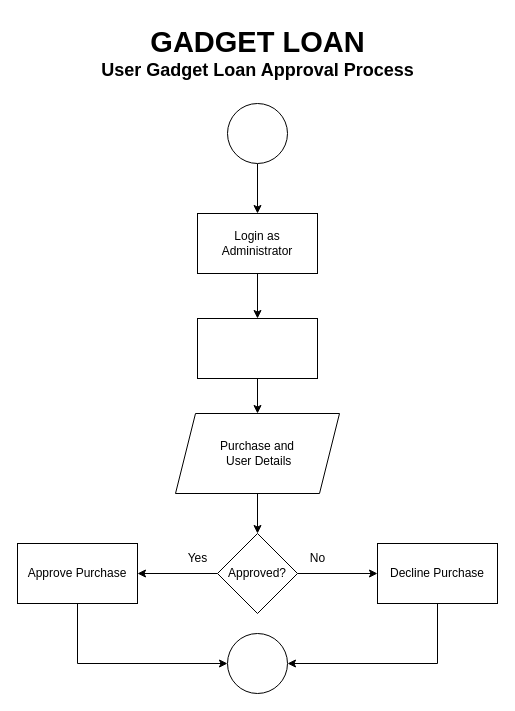
Some shapes in this 515 by 711 pixel diagram are drawn without their labels. Each missing label, with the centre of its shape:
"End" goes at pixel 257 663.
"Select User Gadget Loan Application" goes at pixel 257 348.
"Start" goes at pixel 257 133.
